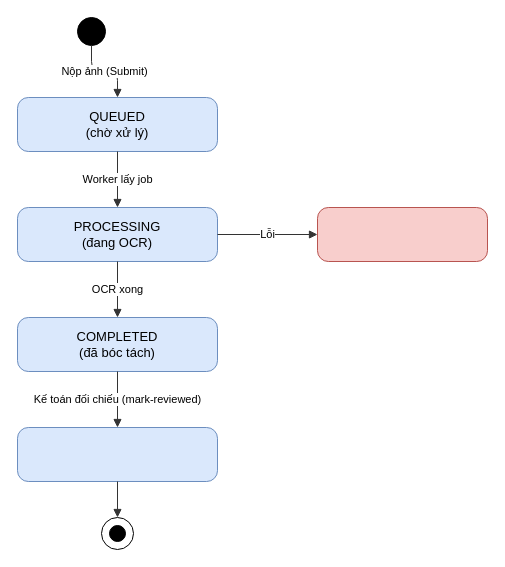
This 505x567 diagram has some shape labels left out. The centre of each missing label's shape, as x and y in pixels:
FAILED (lỗi): point 402,234
REVIEWED (đã đối chiếu): point 117,454
